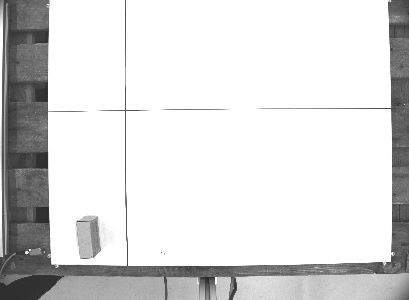b1: (74, 213, 104, 261)
